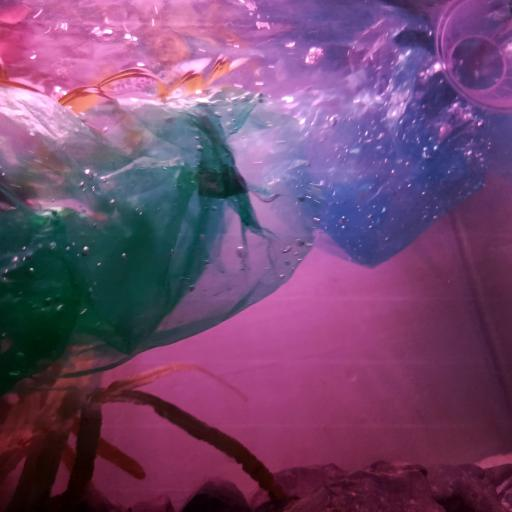plastic_bag: (0, 88, 323, 380), (272, 38, 511, 268)
plastic_cup: (438, 0, 511, 111)
